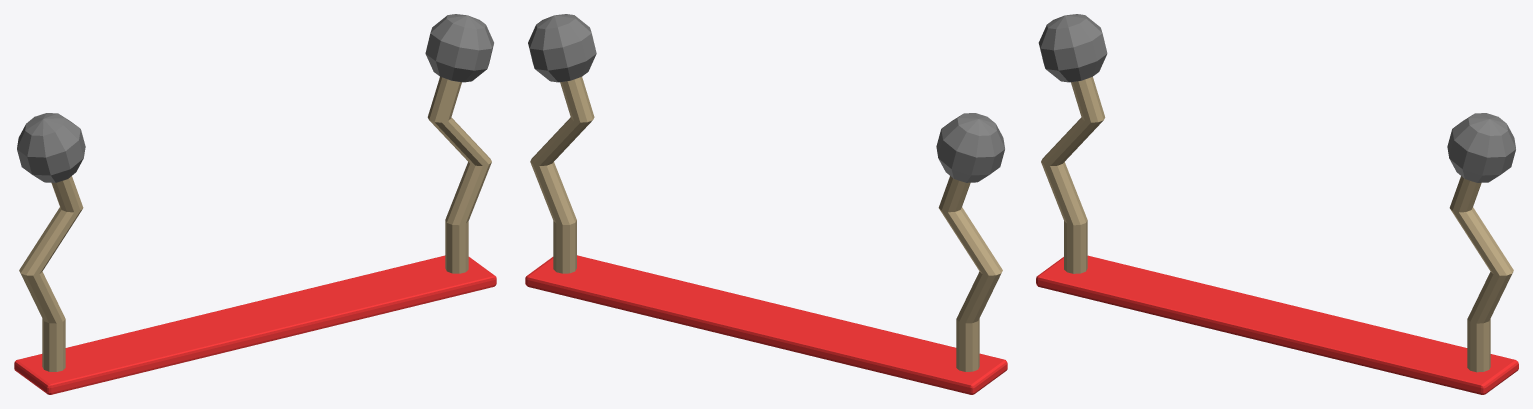
The model's file is Electric Fence.fbx.
The picture shows the model from 3 angles, left to right: view 1: azimuth 30°, elevation 25°; view 2: azimuth 150°, elevation 25°; view 3: azimuth 330°, elevation 25°; orthographic projection.
Parts seen in each view (by area): view 1: Box001; view 2: Box001; view 3: Box001.
Part boxes in pixels (box(x1,y1,x2,y2)): Box001: box(14, 14, 496, 394); Box001: box(525, 14, 1007, 394); Box001: box(1036, 14, 1518, 394).
Size of the model in its own units: 0.5843 by 0.3109 by 0.0762.
